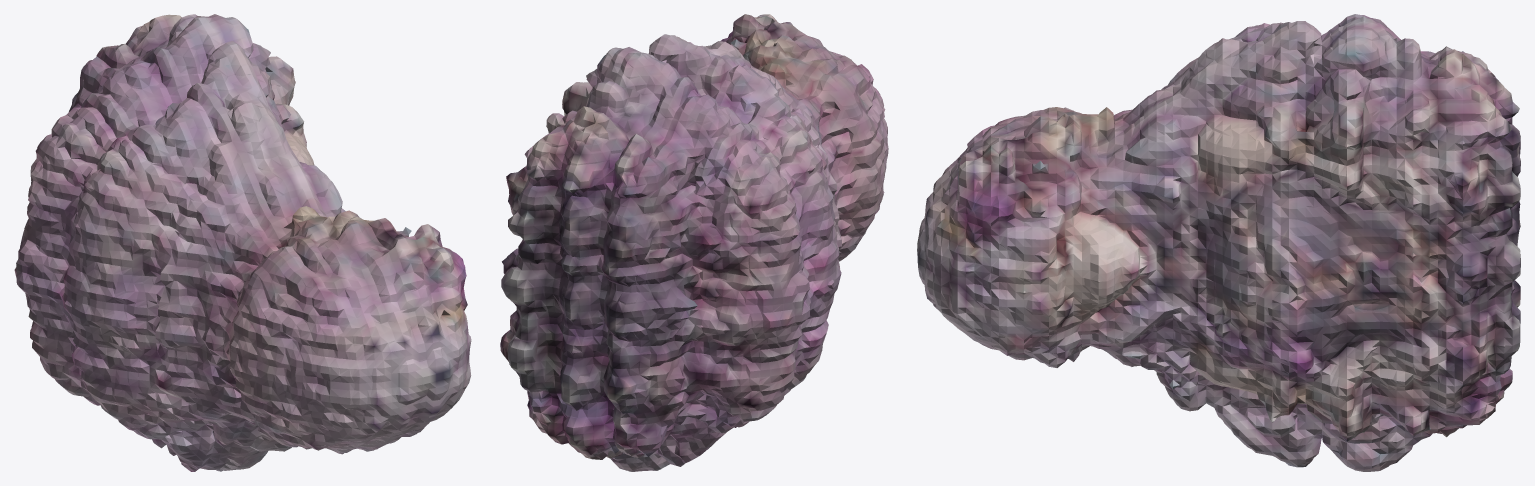
3 renders of one model, left to right at view 1: azimuth 30°, elevation 25°; view 2: azimuth 150°, elevation 25°; view 3: azimuth 270°, elevation 25°, orthographic. The views are drawn at different scales.
Parts seen in each view (by area): view 1: world; view 2: world; view 3: world.
Part boxes in pixels (x1=…): world: x1=14, y1=14, x2=471, y2=471; world: x1=500, y1=14, x2=888, y2=471; world: x1=917, y1=14, x2=1520, y2=471.
Bounding box in the file's own units: 0.5589 × 0.8315 × 0.9989.
